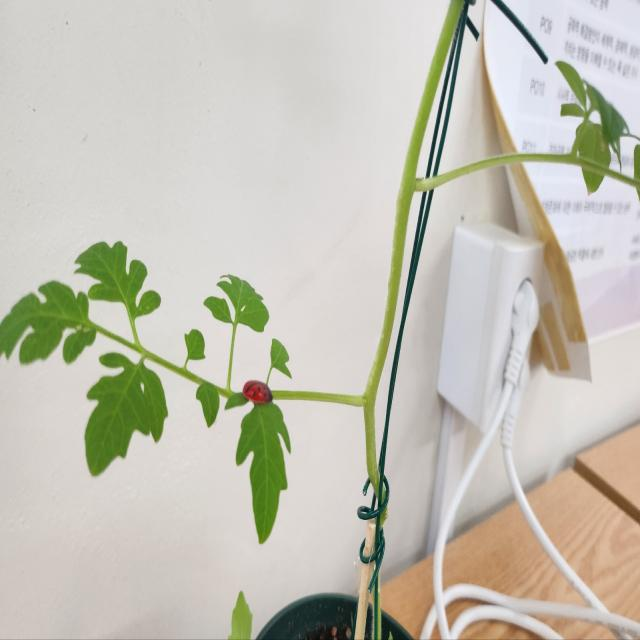bug: (232, 372, 282, 413)
